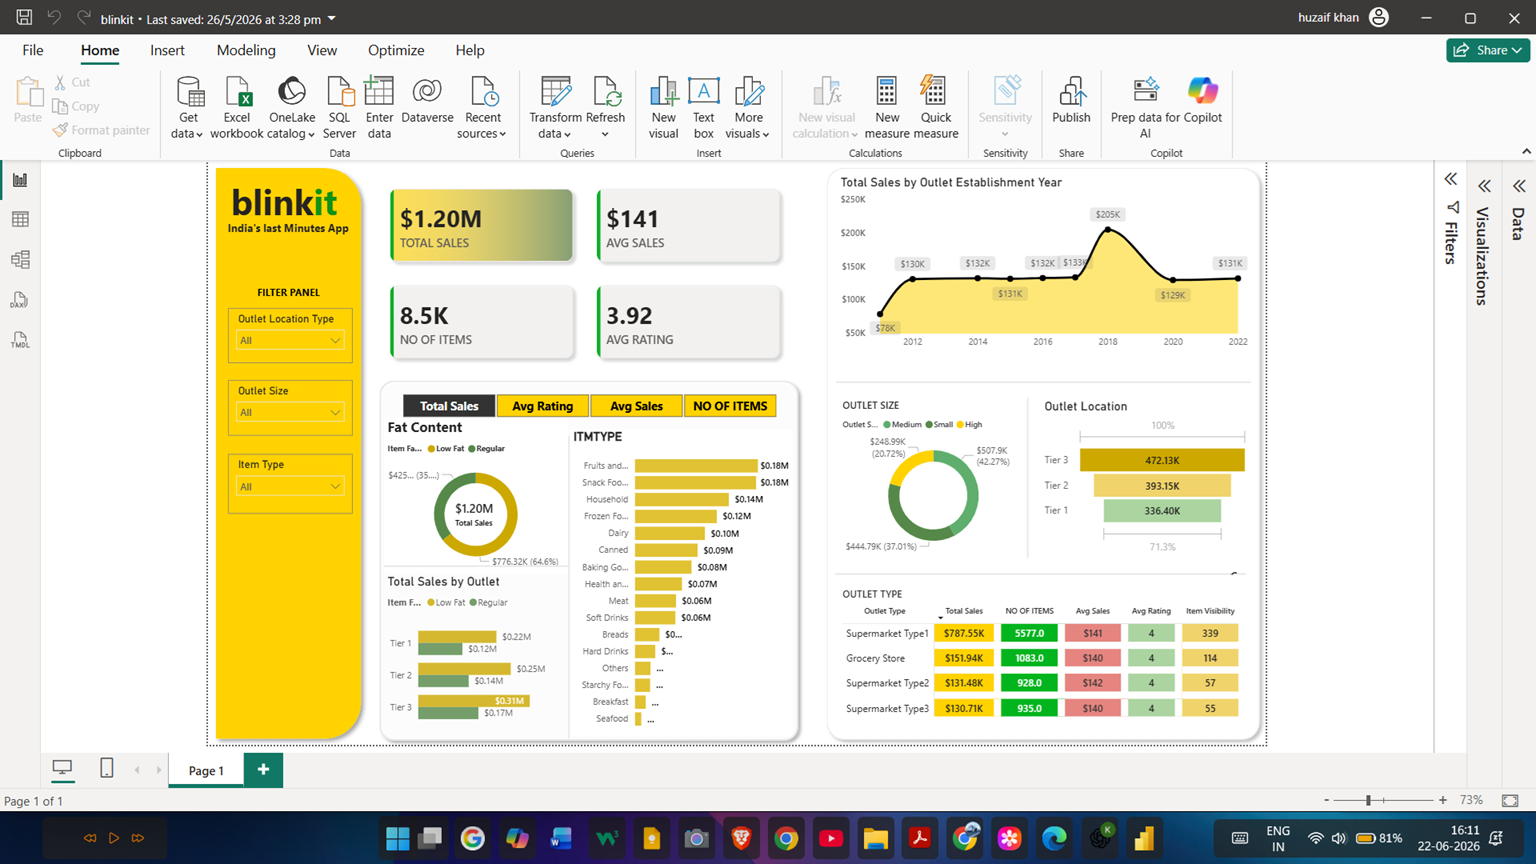

Layout of this report page (visuals, bound fields, positions):
{"tool":"powerbi","page":{"name":"Page 1","canvas":[1445,799],"ordinal":0},"visuals":[{"type":"shape","box":[0,0,220,801.7],"z":0},{"type":"textbox","box":[19.2,19.2,169.8,89],"z":1000},{"type":"textbox","box":[253.5,507,207,294],"z":2000},{"type":"textbox","box":[16.7,78.3,186.7,30],"z":3000},{"type":"shape","box":[226,292,590,510],"z":4000},{"type":"donutChart","title":" Fat Content","fields":{"Y":["BlinkIT Grocery Data.Total Sales"],"Category":["BlinkIT Grocery Data.Item Fat Content"]},"box":[240,351.4,251.4,214.3],"z":5000},{"type":"cardVisual","fields":{"Data":["BlinkIT Grocery Data.Total Sales","BlinkIT Grocery Data.Avg Sales","BlinkIT Grocery Data.NO OF ITEMS","BlinkIT Grocery Data.Avg Rating"]},"box":[220,15,590,286.7],"z":6000},{"type":"slicer","fields":{"Values":["Metrics.Metrics"]},"box":[240,310,560,41.7],"z":7000},{"type":"cardVisual","fields":{"Data":["BlinkIT Grocery Data.Total Sales"]},"box":[308.6,444.3,112.9,78.6],"z":8000},{"type":"clusteredBarChart","title":"Total Sales by Outlet ","fields":{"Y":["BlinkIT Grocery Data.Total Sales"],"Category":["BlinkIT Grocery Data.Outlet Location Type"],"Series":["BlinkIT Grocery Data.Item Fat Content"]},"box":[240,565.7,251.4,222.9],"z":9000},{"type":"shape","box":[240,534.3,251.4,41.4],"z":10000},{"type":"shape","box":[414.3,377.1,158.6,412.9],"z":11000},{"type":"barChart","title":" ITMTYPE","fields":{"Y":["BlinkIT Grocery Data.Total Sales"],"Category":["BlinkIT Grocery Data.Item Type"]},"box":[494,368,304,420],"z":12000},{"type":"shape","box":[836,2,610,800],"z":13000},{"type":"lineChart","fields":{"Y":["BlinkIT Grocery Data.Total Sales"],"Category":["BlinkIT Grocery Data.Outlet Establishment Year"]},"box":[860,20,566,246],"z":14000},{"type":"donutChart","title":"OUTLET SIZE","fields":{"Y":["BlinkIT Grocery Data.Total Sales"],"Category":["BlinkIT Grocery Data.Outlet Size"]},"box":[861.7,325,258.3,221.7],"z":15000},{"type":"shape","box":[1076.7,325,86.7,218.3],"z":16000},{"type":"funnel","title":" Outlet Location ","fields":{"Category":["BlinkIT Grocery Data.Outlet Location Type"],"Y":["Sum(BlinkIT Grocery Data.Sales)"]},"box":[1138.6,327.1,288.6,217.1],"z":17000},{"type":"pivotTable","title":"OUTLET TYPE","fields":{"Rows":["BlinkIT Grocery Data.Outlet Type"],"Values":["BlinkIT Grocery Data.Total Sales","BlinkIT Grocery Data.NO OF ITEMS","BlinkIT Grocery Data.Avg Sales","BlinkIT Grocery Data.Avg Rating","Sum(BlinkIT Grocery Data.Item Visibility)"]},"box":[862.2,583.3,564.4,192.2],"z":18000},{"type":"slicer","fields":{"Values":["BlinkIT Grocery Data.Outlet Location Type"]},"box":[27,202,170,75],"z":19000},{"type":"slicer","fields":{"Values":["BlinkIT Grocery Data.Outlet Size"]},"box":[27,301,170,76],"z":20000},{"type":"slicer","fields":{"Values":["BlinkIT Grocery Data.Item Type"]},"box":[26.7,401.7,170,81.7],"z":21000},{"type":"shape","box":[858.6,282.9,567.1,41.4],"z":22000},{"type":"shape","box":[857.1,532.9,561.4,65.7],"z":23000},{"type":"shape","box":[21.7,158.3,176.7,43.3],"z":24000}]}

Visuals, with their boxes on the page's 1445x799 design canvas (x1, y1, x2, y2). These are canvas units, not pixel positions in the 1536x864 screenshot, which may show the page scaled, cropped or inside an application window:
shape: Rect(0, 0, 220, 802)
textbox: Rect(19, 19, 189, 108)
textbox: Rect(254, 507, 460, 801)
textbox: Rect(17, 78, 203, 108)
shape: Rect(226, 292, 816, 802)
" Fat Content" donutChart: Rect(240, 351, 491, 566)
cardVisual - BlinkIT Grocery Data.Total Sales x BlinkIT Grocery Data.Avg Sales: Rect(220, 15, 810, 302)
slicer - Metrics.Metrics: Rect(240, 310, 800, 352)
cardVisual - BlinkIT Grocery Data.Total Sales: Rect(309, 444, 422, 523)
"Total Sales by Outlet " clusteredBarChart: Rect(240, 566, 491, 789)
shape: Rect(240, 534, 491, 576)
shape: Rect(414, 377, 573, 790)
" ITMTYPE" barChart: Rect(494, 368, 798, 788)
shape: Rect(836, 2, 1446, 802)
lineChart - BlinkIT Grocery Data.Total Sales x BlinkIT Grocery Data.Outlet Establishment Year: Rect(860, 20, 1426, 266)
"OUTLET SIZE" donutChart: Rect(862, 325, 1120, 547)
shape: Rect(1077, 325, 1163, 543)
" Outlet Location " funnel: Rect(1139, 327, 1427, 544)
"OUTLET TYPE" pivotTable: Rect(862, 583, 1427, 776)
slicer - BlinkIT Grocery Data.Outlet Location Type: Rect(27, 202, 197, 277)
slicer - BlinkIT Grocery Data.Outlet Size: Rect(27, 301, 197, 377)
slicer - BlinkIT Grocery Data.Item Type: Rect(27, 402, 197, 483)
shape: Rect(859, 283, 1426, 324)
shape: Rect(857, 533, 1418, 599)
shape: Rect(22, 158, 198, 202)
